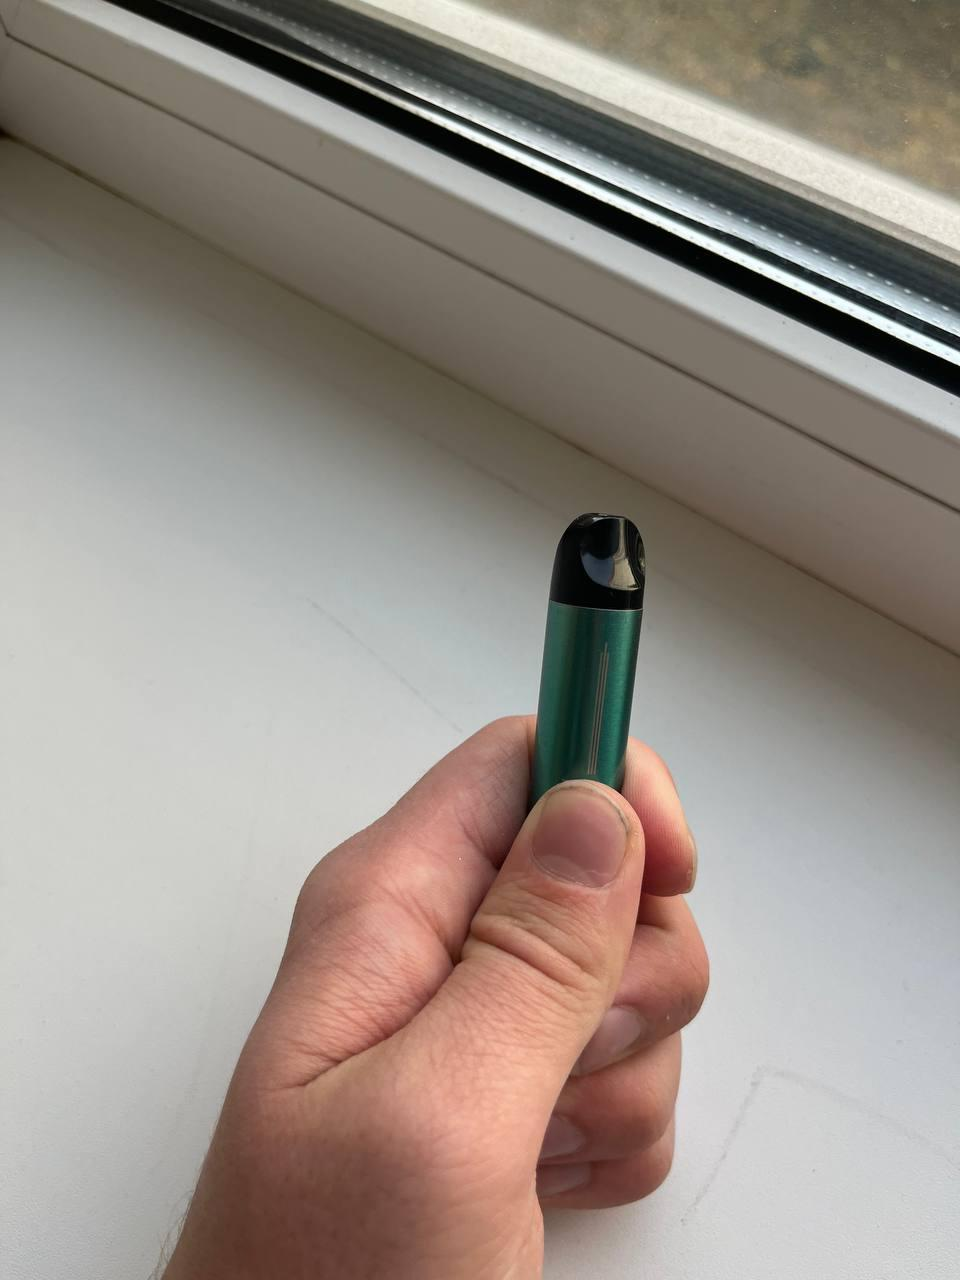Vape: (530, 515, 644, 809)
